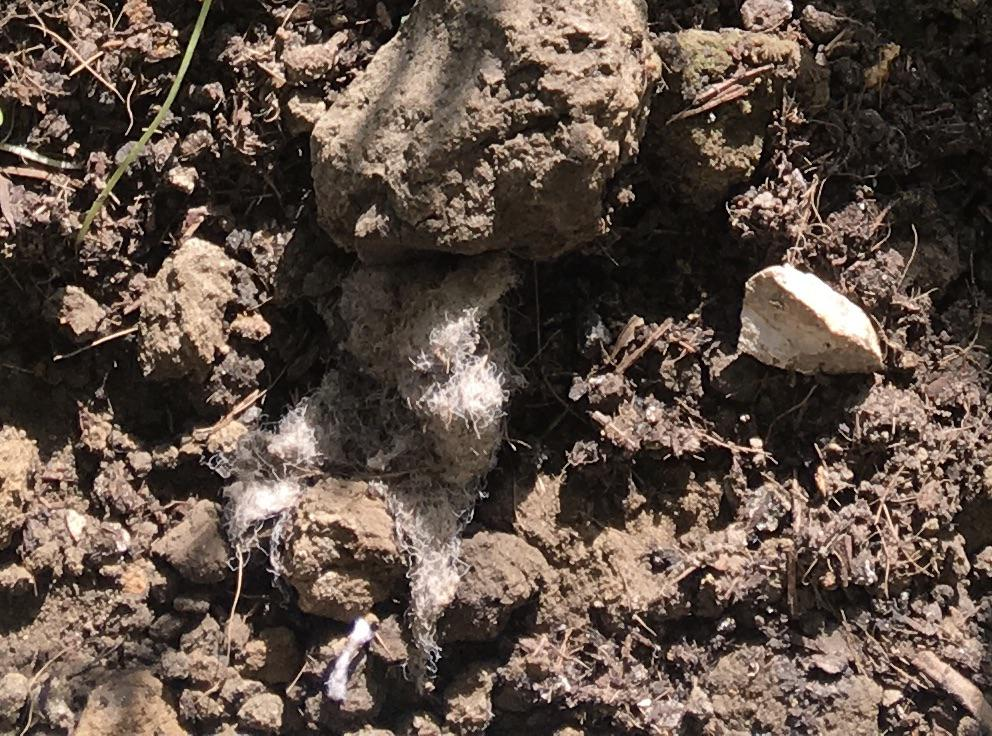block: (310, 1, 654, 265), (739, 265, 890, 383)
